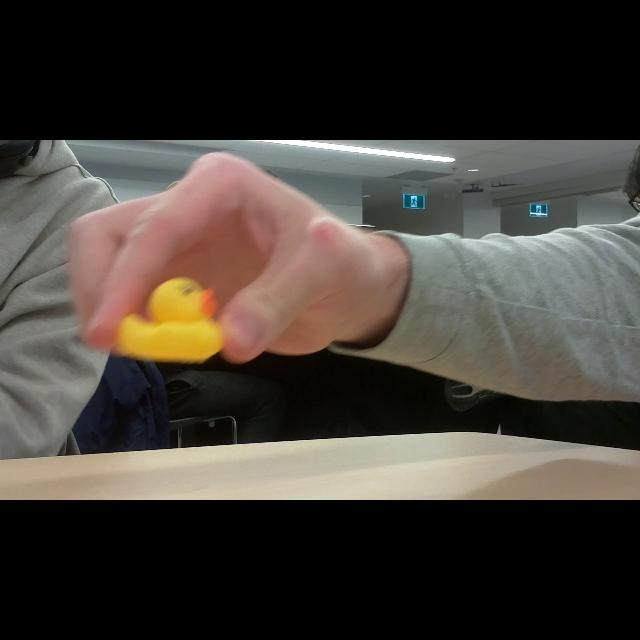duck_regular: (118, 278, 224, 363)
